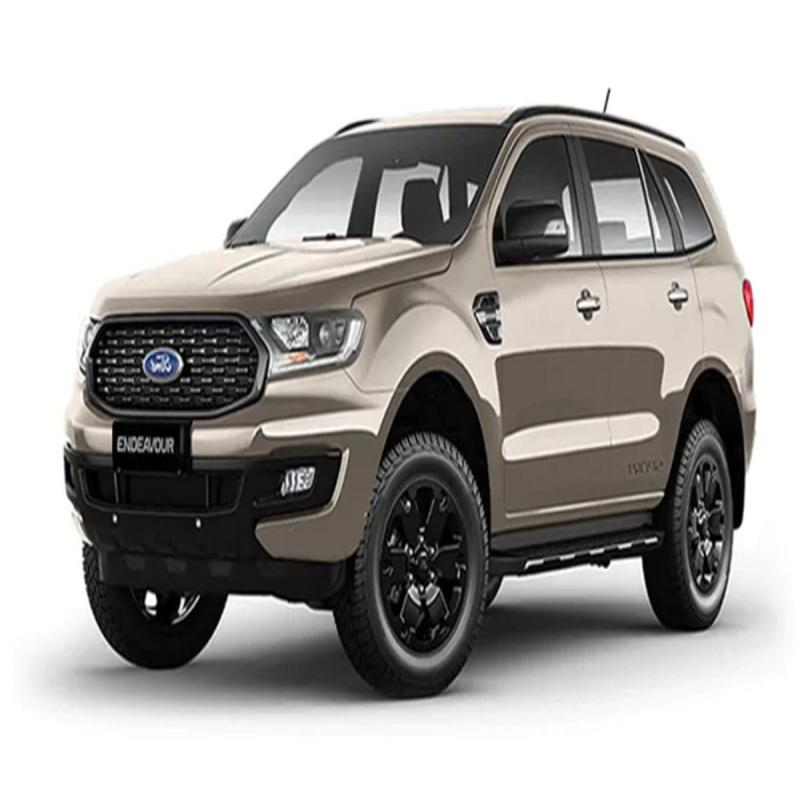car: (68, 80, 766, 686)
